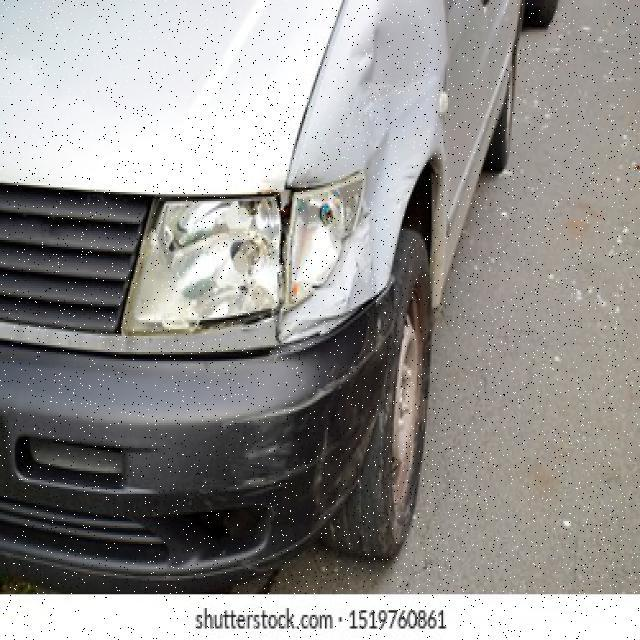fender-dent: (295, 0, 448, 343)
front-bumper-dent: (7, 341, 386, 514)
